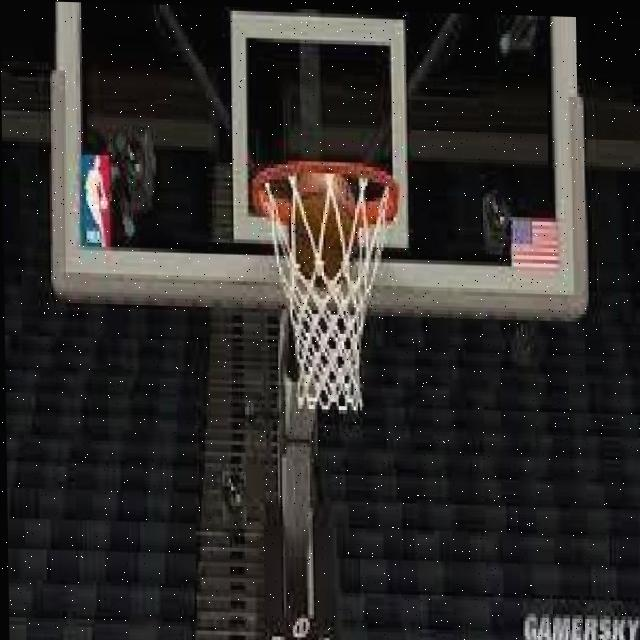Goal: (291, 169, 360, 283)
